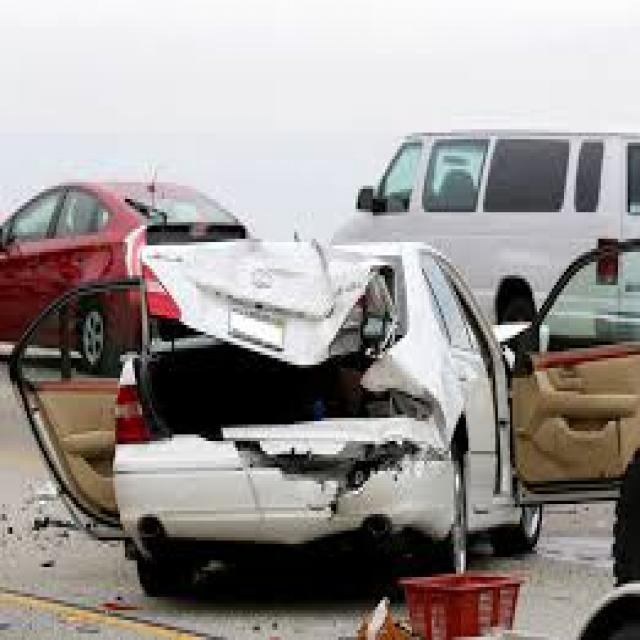moderate: (110, 188, 487, 549)
